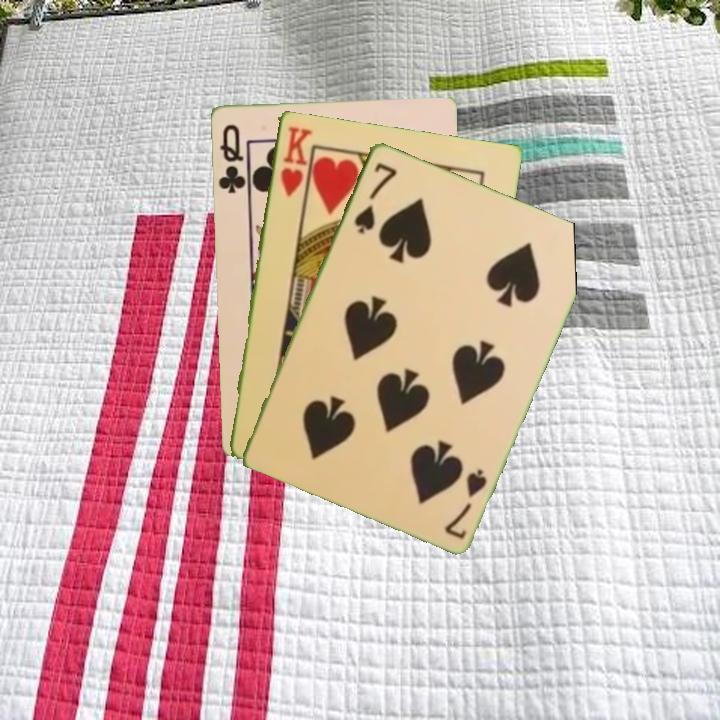7s: (350, 158, 400, 236), (440, 465, 490, 542)
Kh: (276, 122, 314, 200)
Qc: (214, 120, 250, 197)
